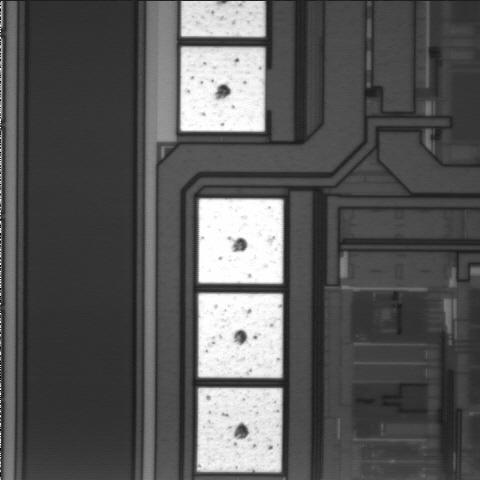pad: (180, 47, 265, 132), (198, 199, 283, 284), (198, 293, 283, 378), (197, 388, 282, 472)
